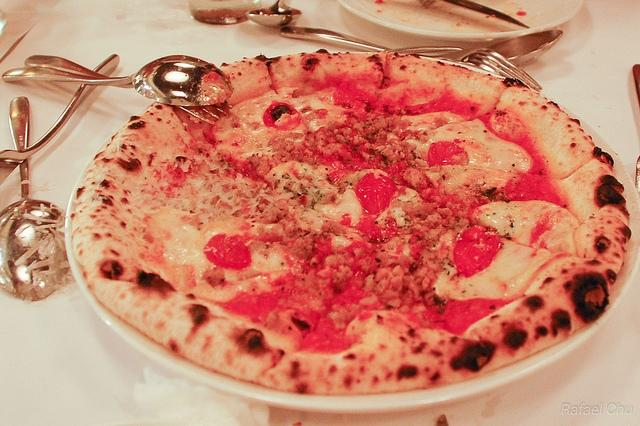tomato: (452, 224, 504, 278), (204, 234, 252, 272), (355, 172, 397, 213), (263, 102, 300, 130), (428, 141, 469, 166)
